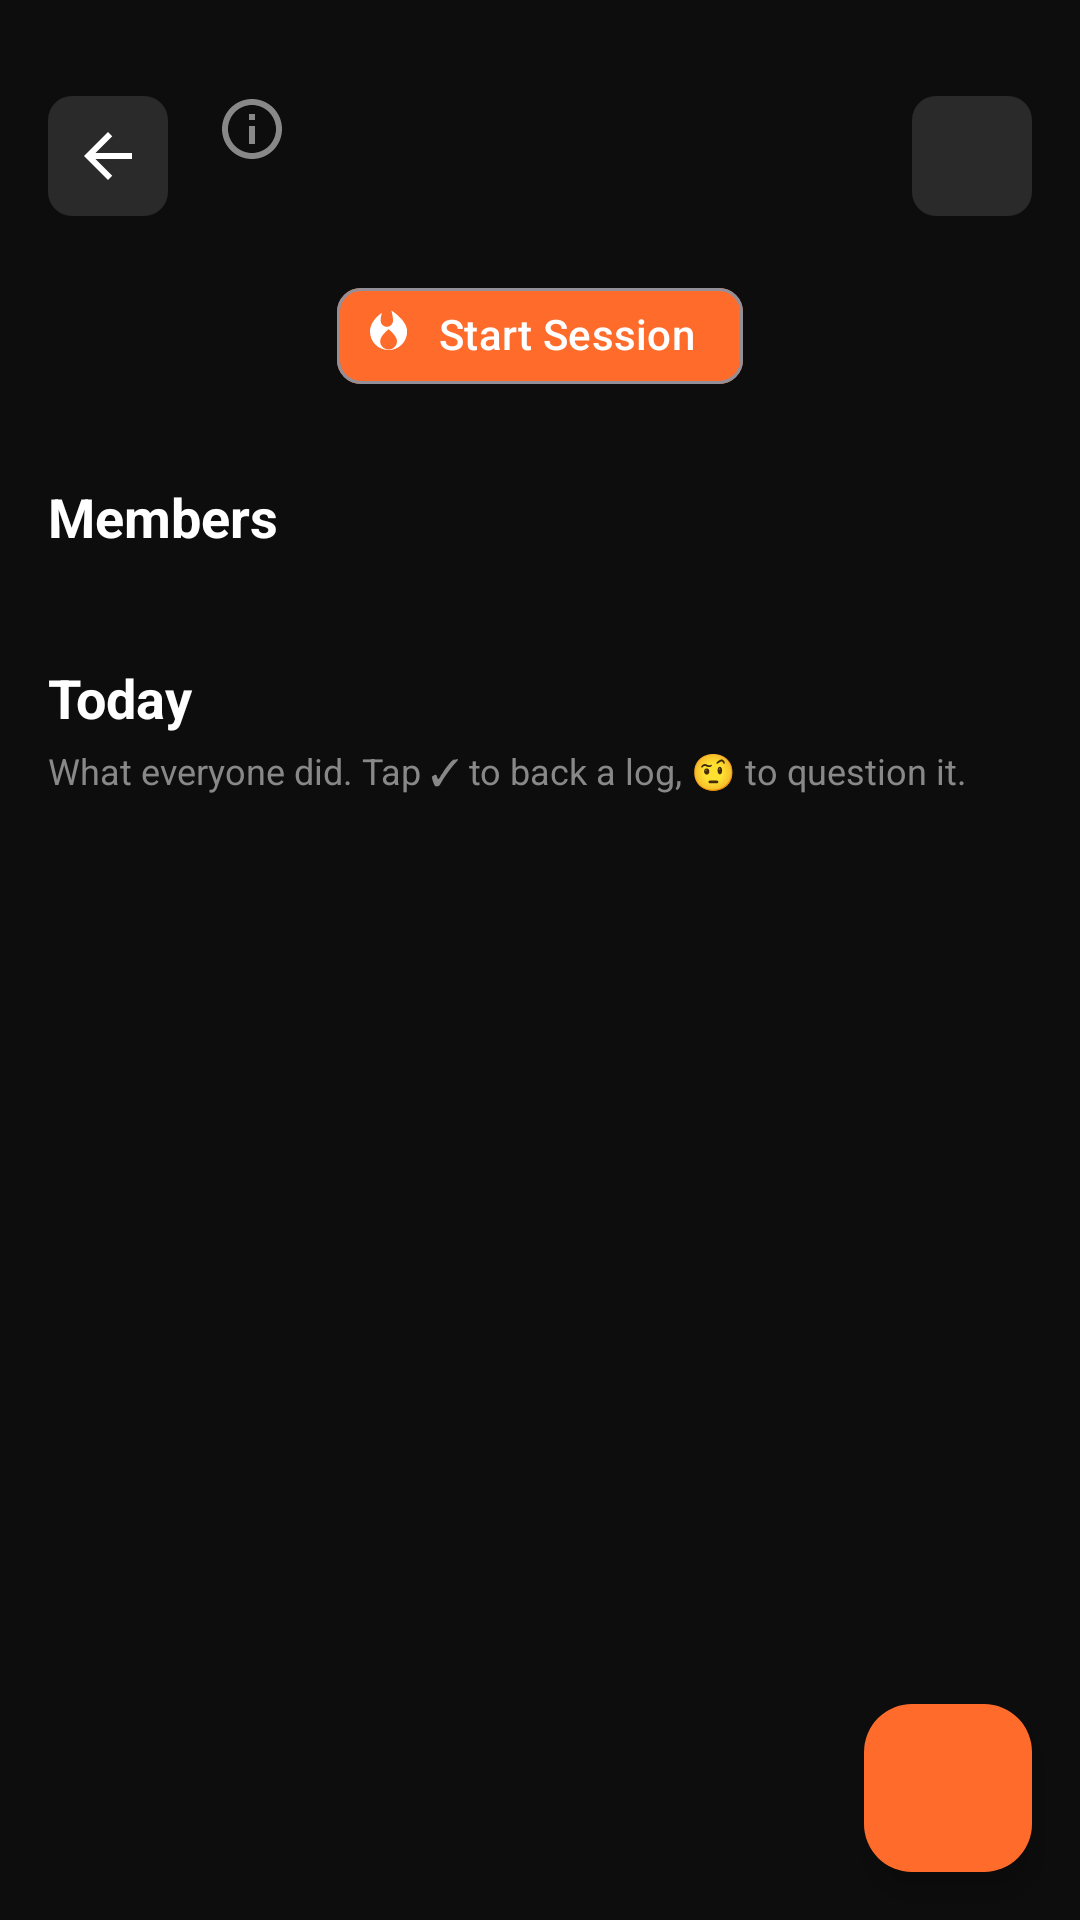

Point at icon controls on the screen. Image size 1080 x 1920, points as [x,y].
arrow back: [108,156]
info: [252,129]
